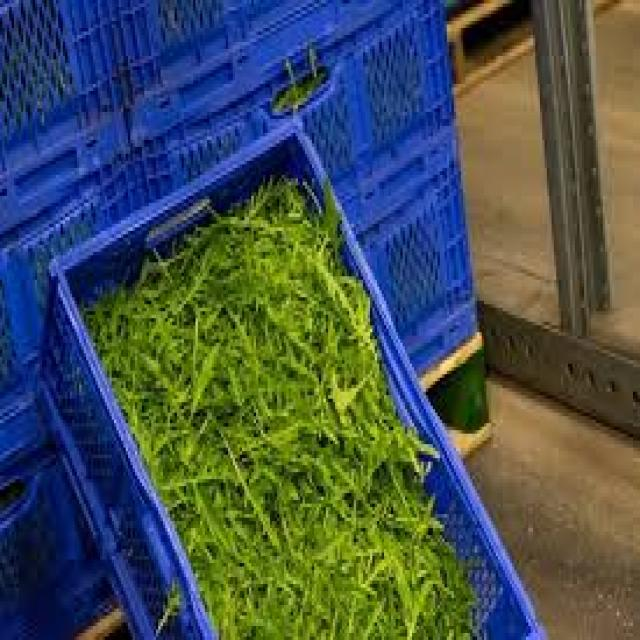basket: (0, 2, 479, 640), (0, 74, 339, 640), (283, 203, 547, 640)
